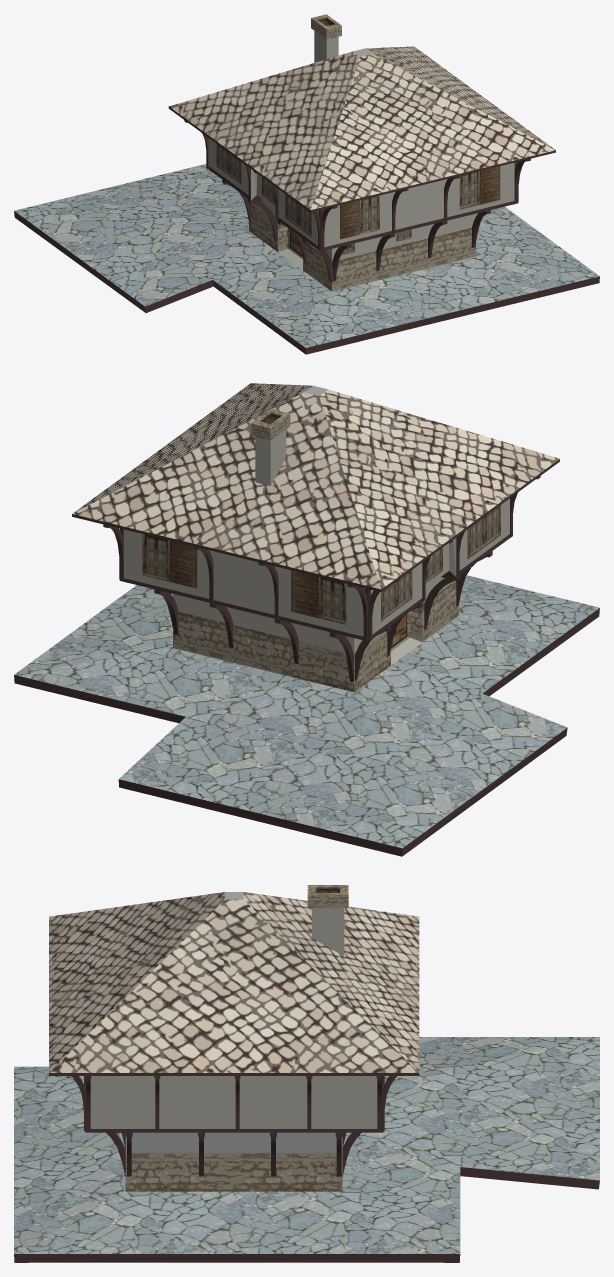
The model's file is House_01_6_colors.fbx.
3 renders of one model, top to bottom at view 1: azimuth 30°, elevation 25°; view 2: azimuth 150°, elevation 25°; view 3: azimuth 270°, elevation 25°, orthographic. The views are drawn at different scales.
Parts seen in each view (by area): view 1: House_01; view 2: House_01; view 3: House_01.
Part boxes in pixels (<box>): House_01: <box>14,14,599,354</box>; House_01: <box>14,383,599,856</box>; House_01: <box>14,885,599,1262</box>.
Size of the model in its own units: 2011 by 1174 by 2160.
7 materials, 4 textured.
